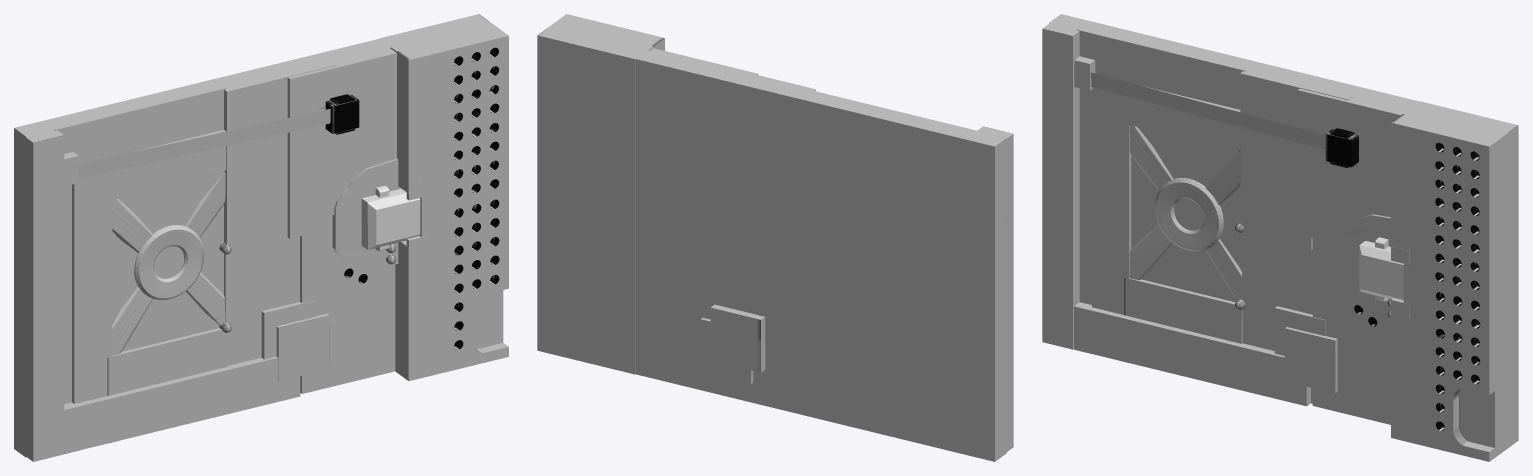
The model's file is genko.gltf.
3 renders of one model, left to right at view 1: azimuth 30°, elevation 25°; view 2: azimuth 150°, elevation 25°; view 3: azimuth 330°, elevation 25°, orthographic.
Visible parts, largest first — view 1: 立方体.002, 立方体.001; view 2: 立方体.002; view 3: 立方体.002, 立方体.001.
Part boxes in pixels (x1,y1,x2,y2): 立方体.002: (14,14,508,461); 立方体.001: (361,188,420,249); 立方体.002: (537,14,1013,461); 立方体.002: (1042,14,1518,461); 立方体.001: (1359,241,1403,300).
Bounding box in the file's own units: 18.1 × 11.93 × 2.27.
Materials: 1 (1 with a texture image).
